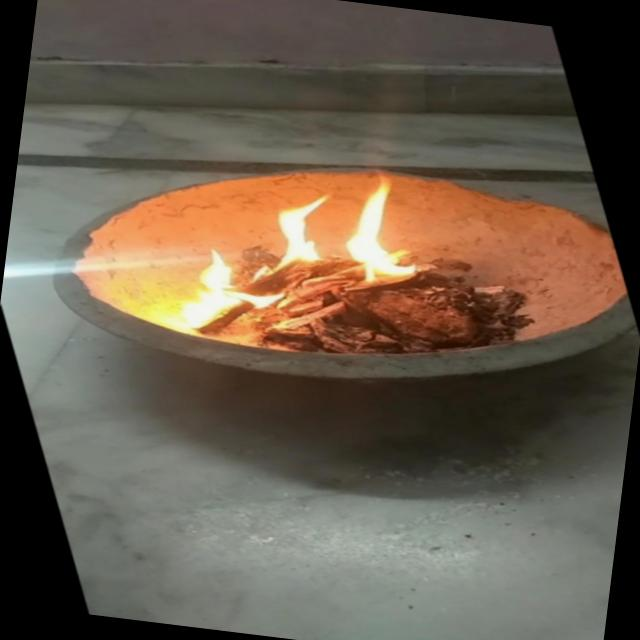fire: (162, 150, 442, 322)
